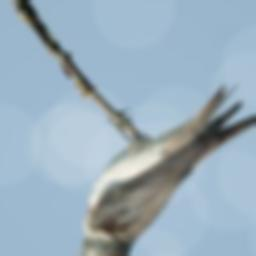Swallow: (71, 83, 256, 256)
